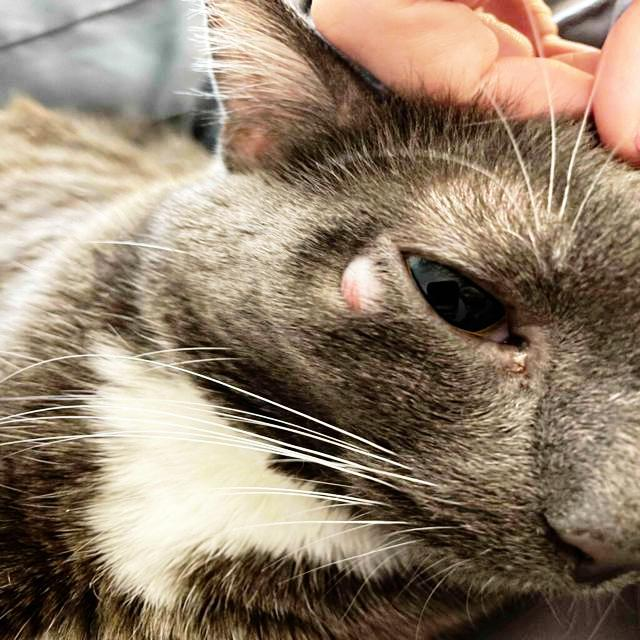lump_and_bump: (342, 250, 384, 324)
